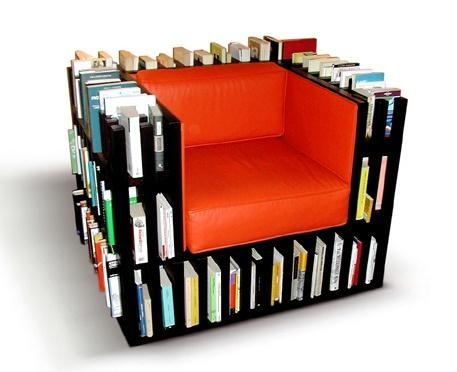chair: (64, 35, 407, 348)
